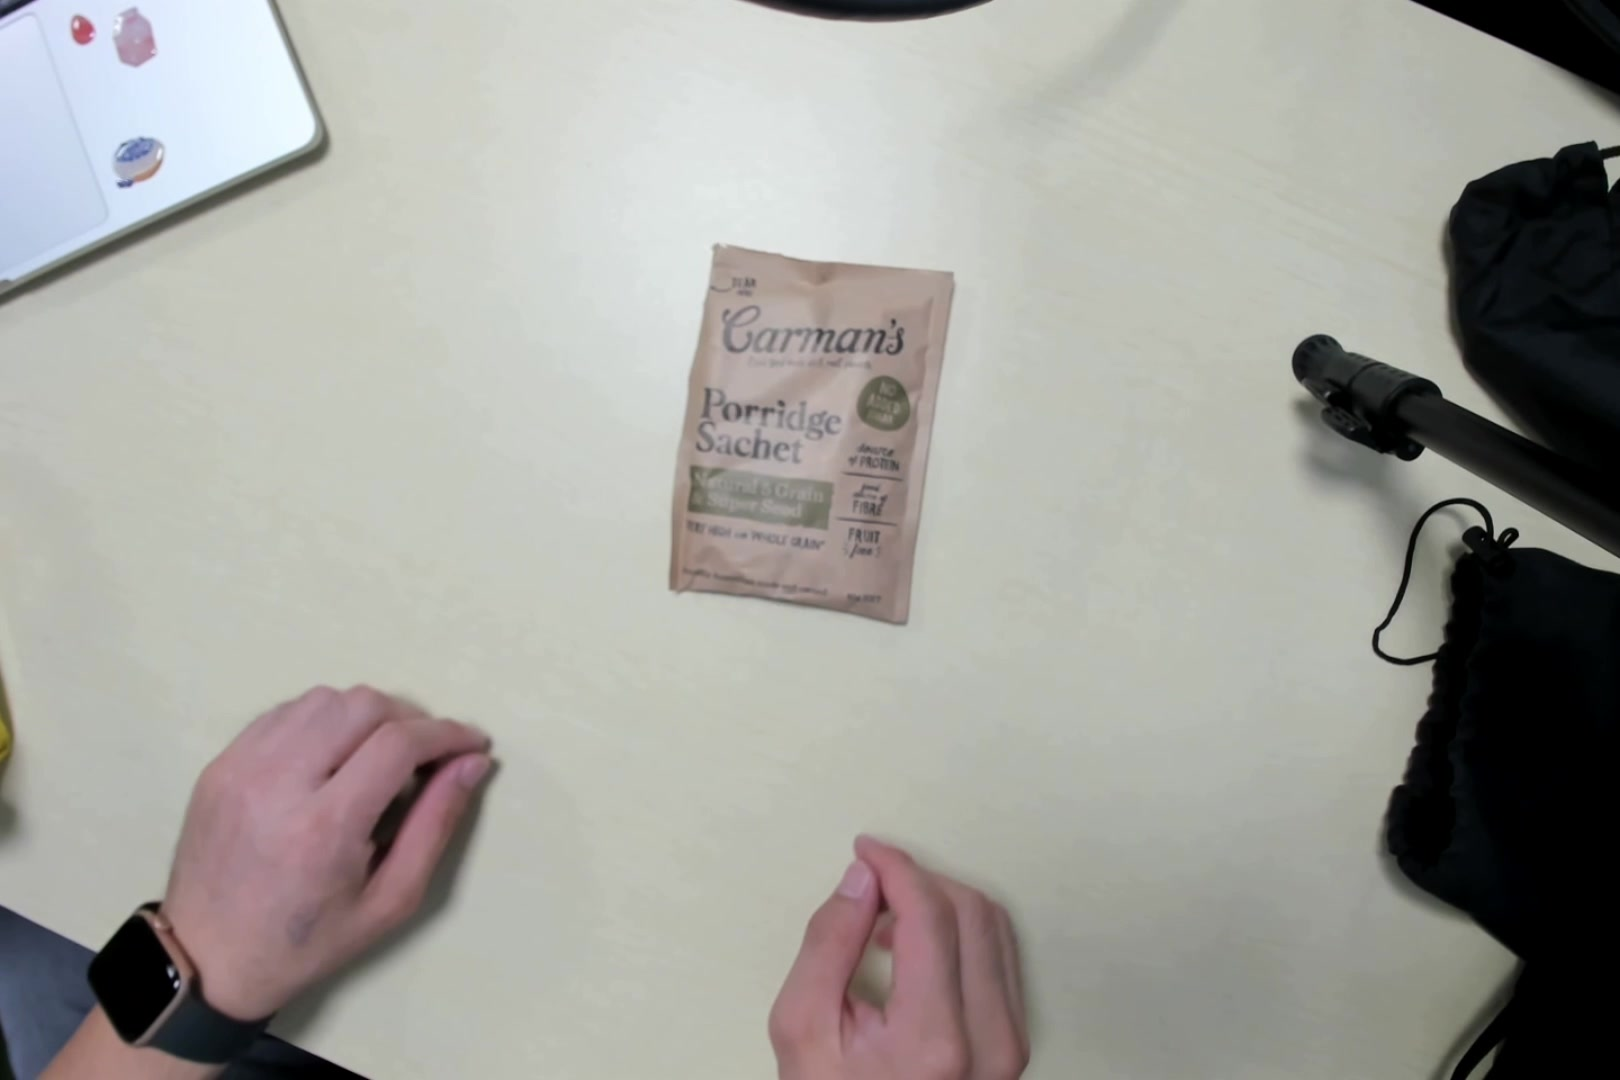InstantMeals_0-99g_NonHalal_NonHealthy: (670, 251, 946, 627)
